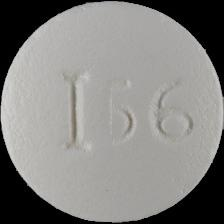31722-256: (0, 0, 224, 224)
